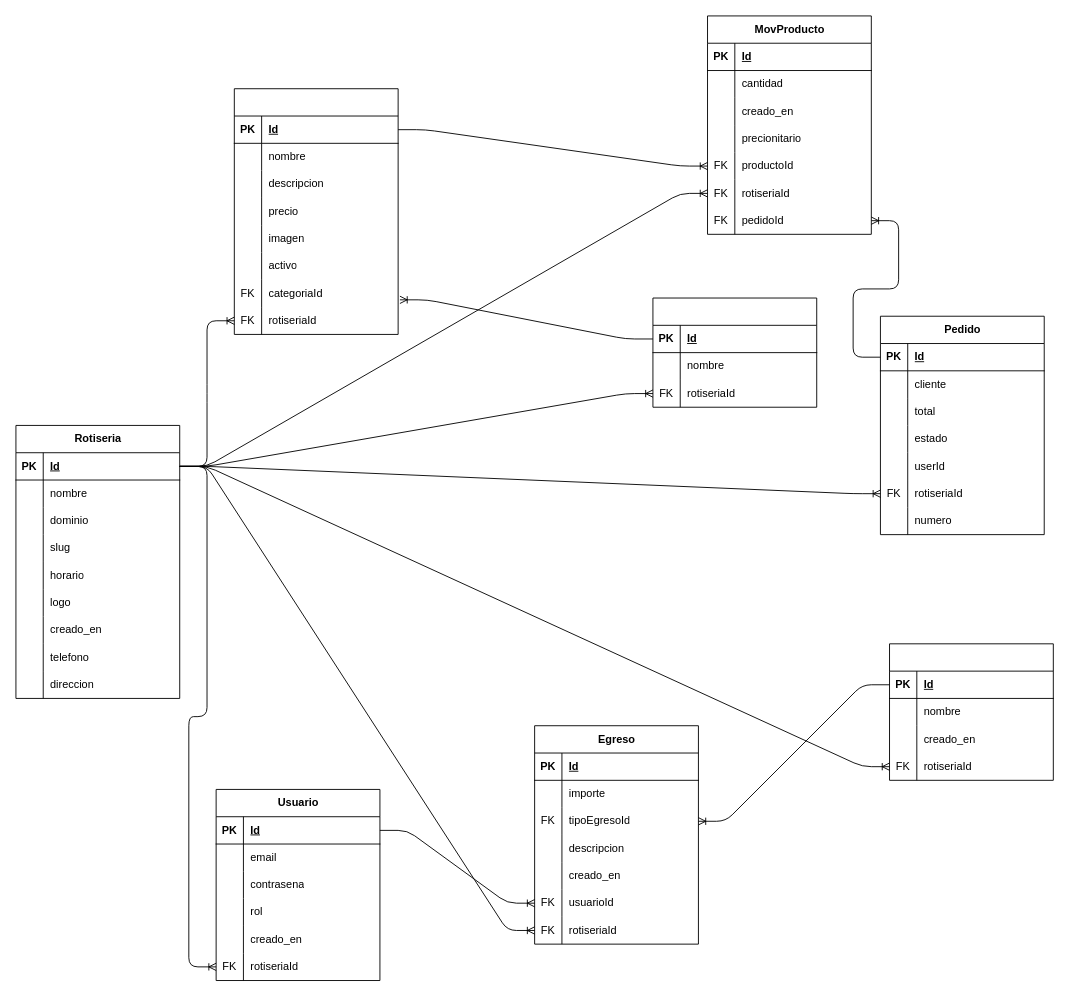
This 1069x996 diagram has some shape labels left out. Each missing label, with the box of its shape:
Categoria: (652, 297, 817, 407)
Producto: (233, 88, 398, 334)
TipoEgreso: (889, 643, 1053, 780)
